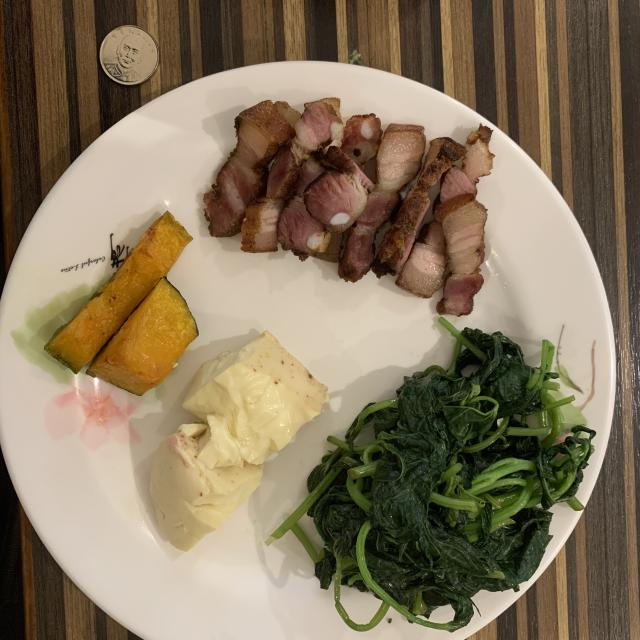coin: (100, 25, 159, 85)
grilled pork: (204, 98, 494, 315)
pumpkin: (45, 211, 199, 395)
sweet potato leaves: (268, 318, 595, 631)
